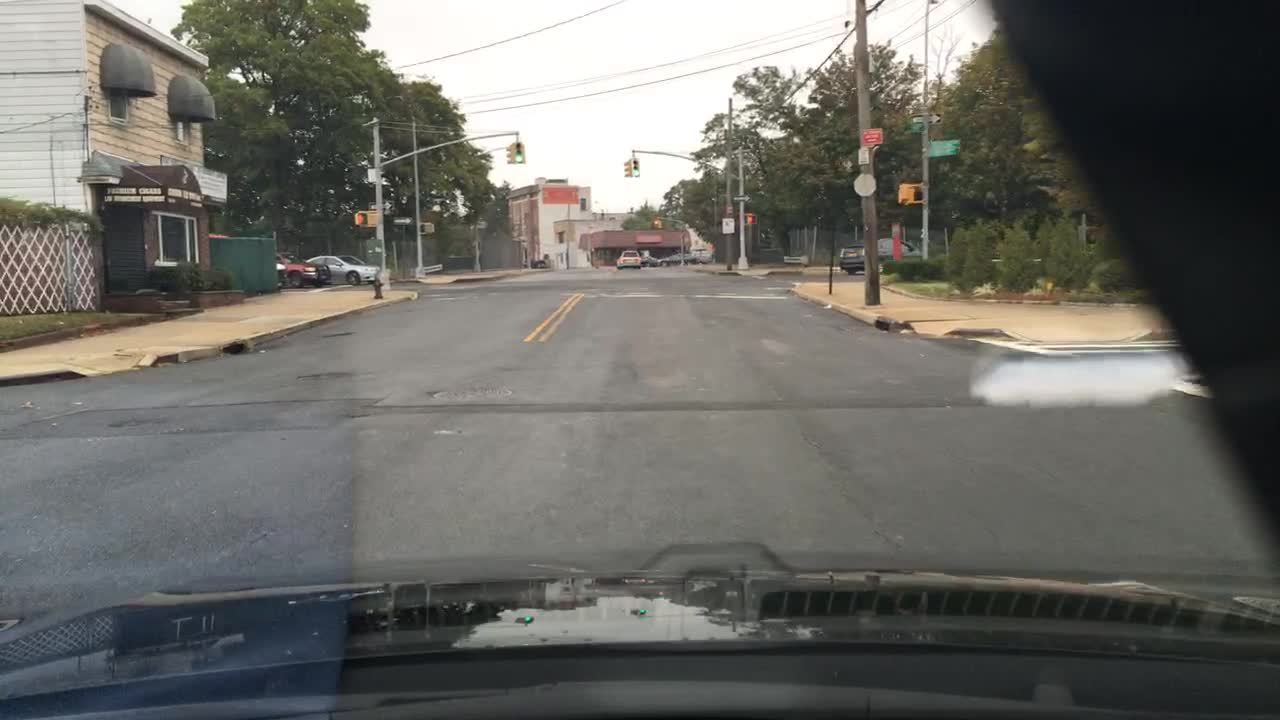car: (838, 238, 927, 274), (262, 253, 327, 293), (309, 248, 376, 286), (614, 249, 644, 270), (658, 251, 702, 264), (697, 254, 715, 266), (644, 255, 659, 265)
traffic light: (899, 180, 924, 207), (510, 139, 528, 165), (353, 208, 374, 229), (422, 219, 441, 234), (632, 158, 643, 183), (503, 141, 512, 167), (652, 216, 666, 230), (619, 160, 628, 177), (746, 215, 756, 229)
traffic sign: (541, 185, 580, 206), (851, 174, 879, 196), (929, 140, 960, 159), (855, 147, 875, 163), (722, 220, 735, 236), (906, 123, 922, 135), (366, 168, 378, 184), (392, 217, 412, 225), (737, 192, 748, 203)
